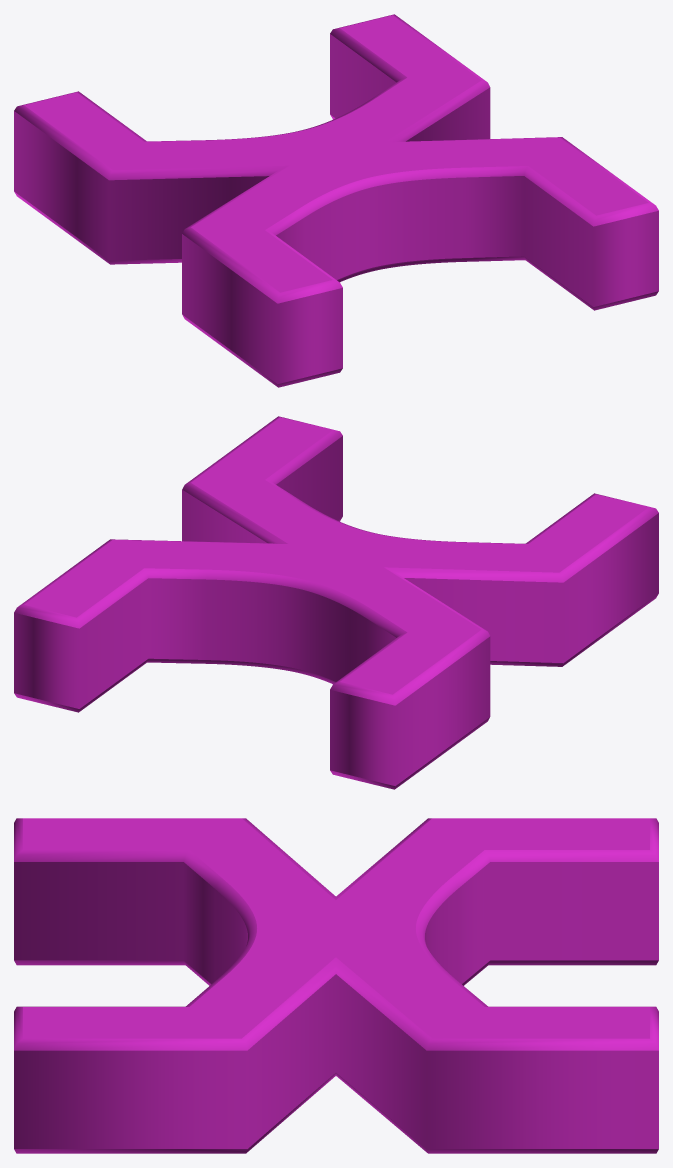
File: Letter_X_Capital_CoolFont.fbx
3 renders of one model, top to bottom at view 1: azimuth 30°, elevation 25°; view 2: azimuth 150°, elevation 25°; view 3: azimuth 270°, elevation 25°, orthographic. The views are drawn at different scales.
Visible parts, largest first — view 1: Letter_X; view 2: Letter_X; view 3: Letter_X.
Part boxes in pixels (x1,y1,x2,y2): Letter_X: [14, 14, 658, 387]; Letter_X: [14, 416, 658, 789]; Letter_X: [14, 818, 658, 1153].
Bounding box in the file's own units: 0.5949 × 0.14 × 0.712.
